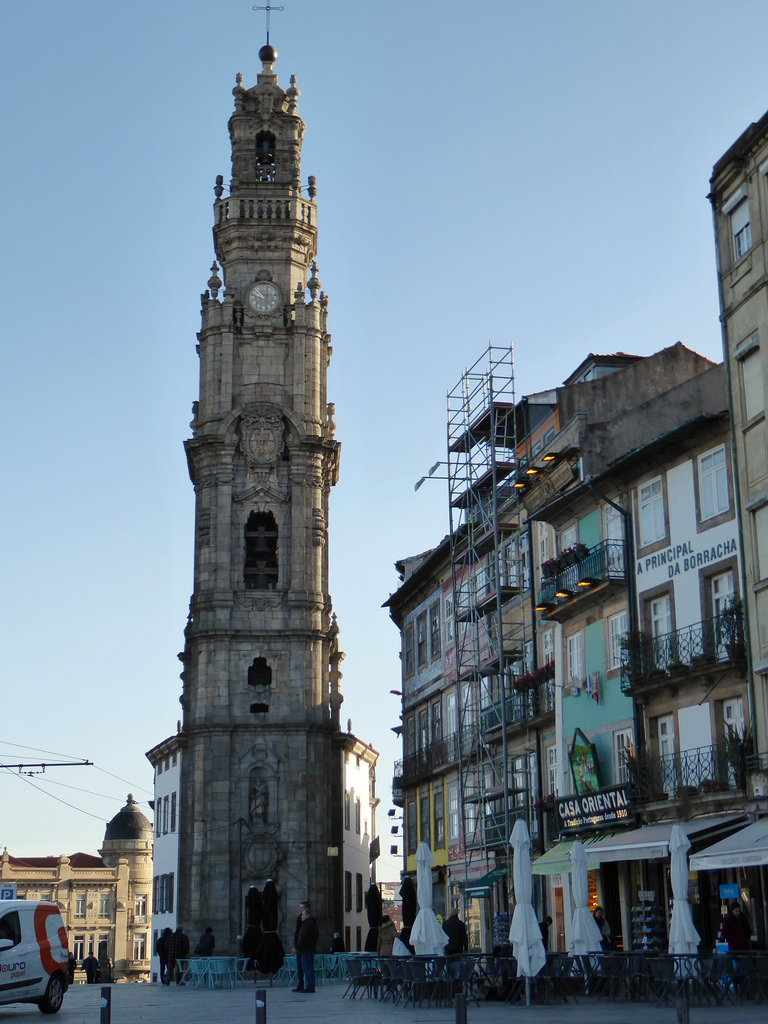clerigos: (177, 0, 341, 963)
